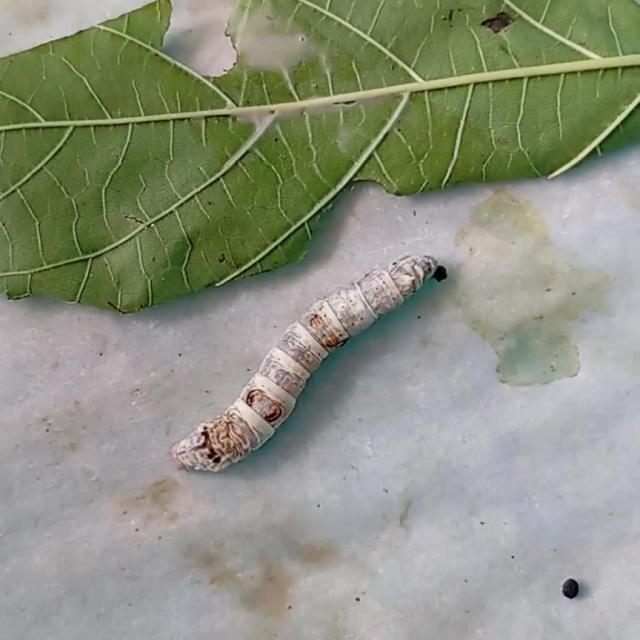Grasserie: (172, 241, 452, 484)
